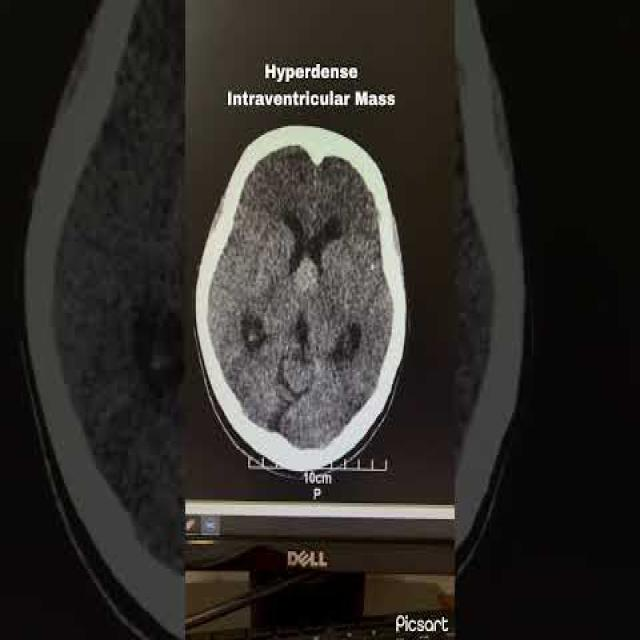Tumor: (288, 257, 322, 299)
